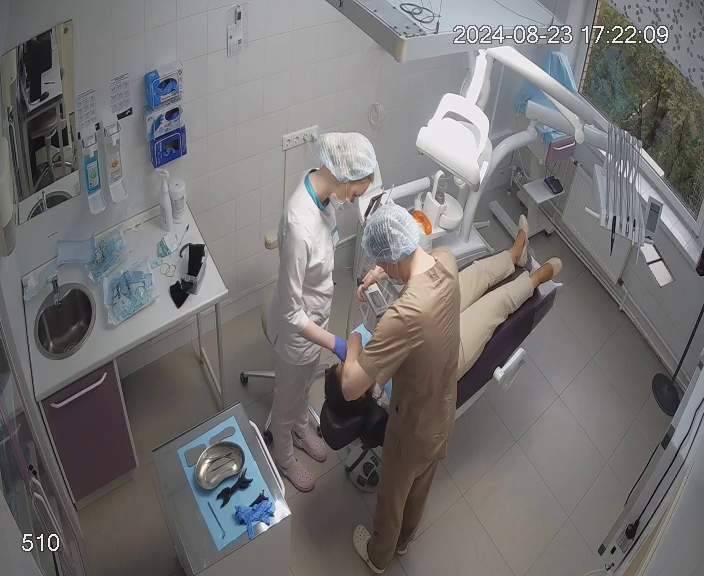Patient: (314, 211, 570, 453)
